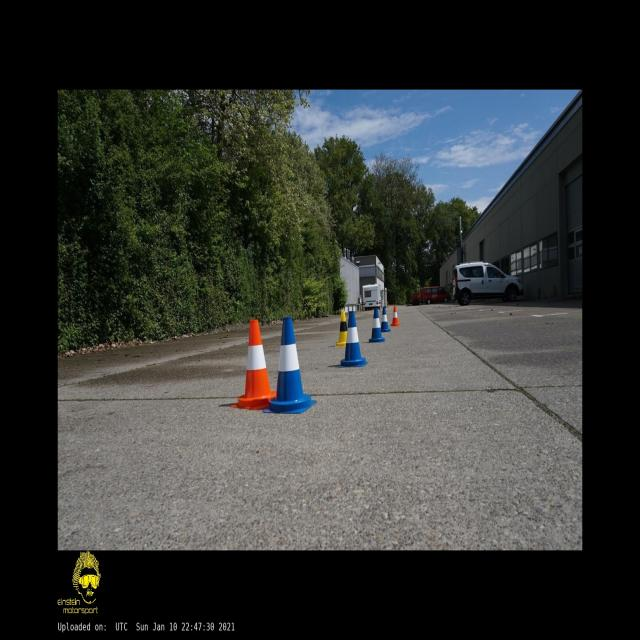blue_cone: (264, 318, 316, 414), (338, 311, 367, 367), (369, 308, 384, 342), (380, 307, 390, 332)
orange_cone: (230, 318, 276, 409), (391, 306, 400, 326)
yellow_cone: (335, 310, 348, 346)
